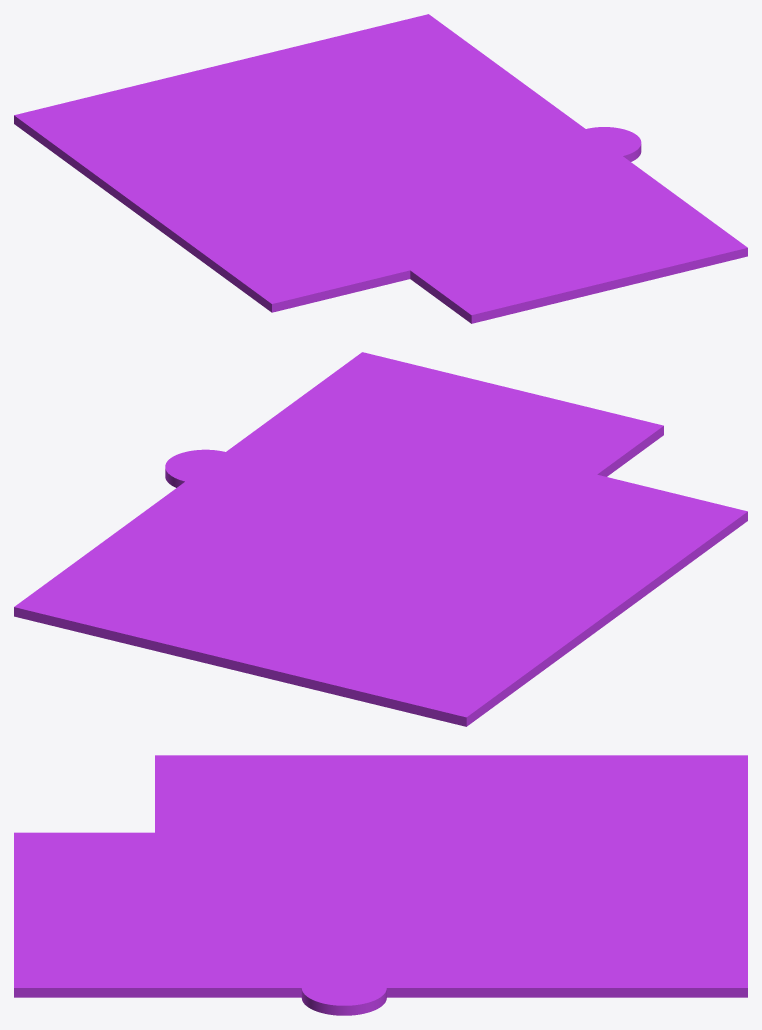
The model's file is casa-suelo.gltf.
The picture shows the model from 3 angles, top to bottom: view 1: azimuth 30°, elevation 25°; view 2: azimuth 150°, elevation 25°; view 3: azimuth 270°, elevation 25°; orthographic projection. The views are drawn at different scales.
Parts seen in each view (by area): view 1: Object_1; view 2: Object_1; view 3: Object_1.
Part boxes in pixels (x1=…): Object_1: x1=14, y1=14, x2=747, y2=323; Object_1: x1=14, y1=352, x2=747, y2=726; Object_1: x1=14, y1=755, x2=747, y2=1015.
Bounding box in the file's own units: 16.16 × 0.3 × 20.
